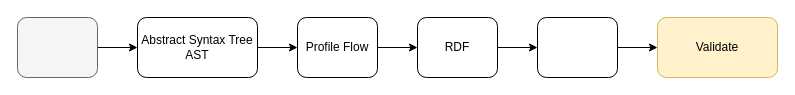
The diagram is 795 pixels wide and 95 high, and some of its shapes have lost their labels. The shapes that lost their labels are listed below. From the top down, each one's centre as x and y in pixels, then its label:
At (x=57, y=47): "Parse".
At (x=577, y=47): "Serialize".
